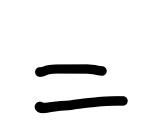eqv: (30, 60, 128, 114)
